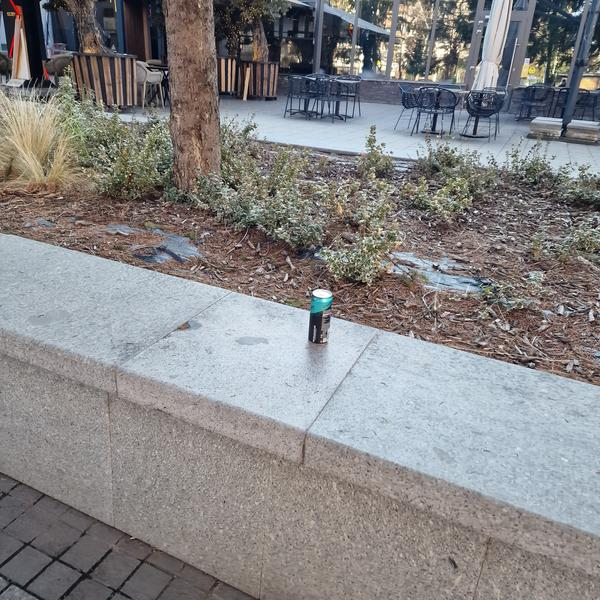can: (307, 287, 333, 345)
